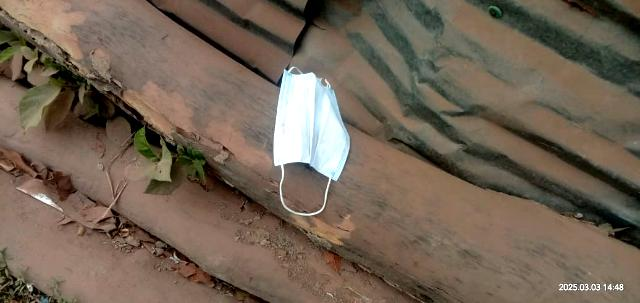mask: (267, 72, 361, 180)
